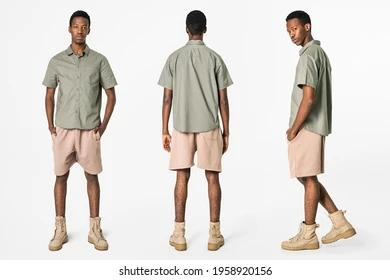Shorts: (48, 125, 104, 176), (167, 126, 225, 174), (285, 128, 328, 181)
short sleeve shirt: (157, 39, 234, 134), (39, 44, 118, 132), (289, 39, 333, 137)
